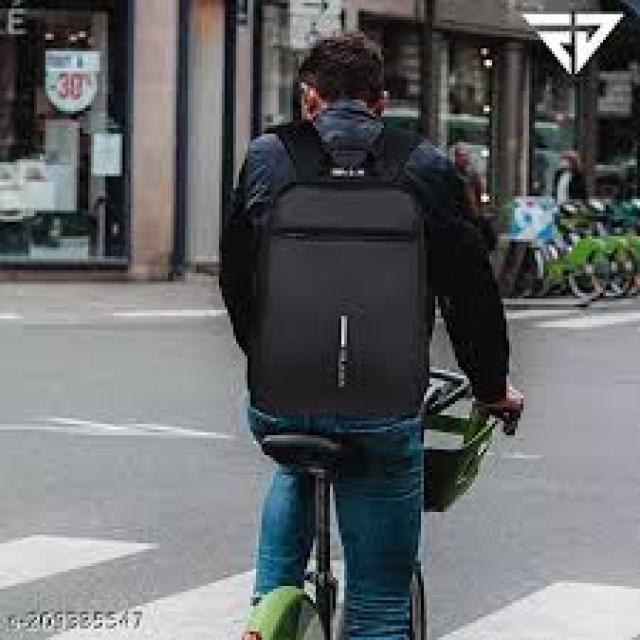backpack: (240, 121, 436, 419)
